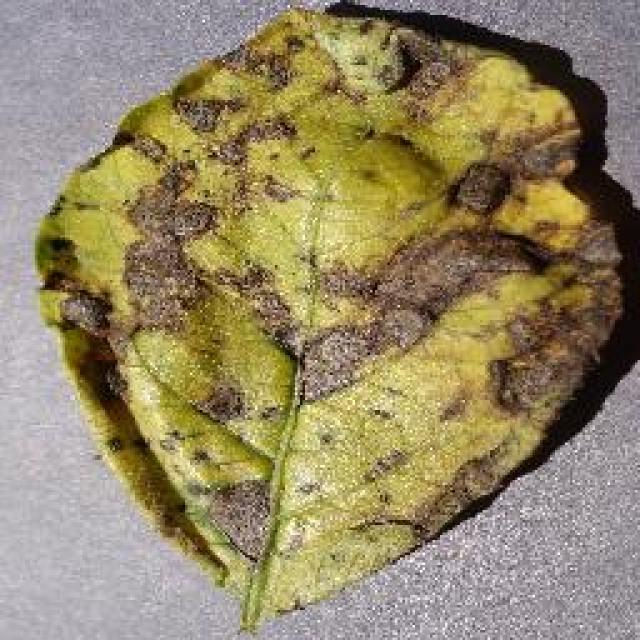early_blight: (30, 0, 630, 632)
